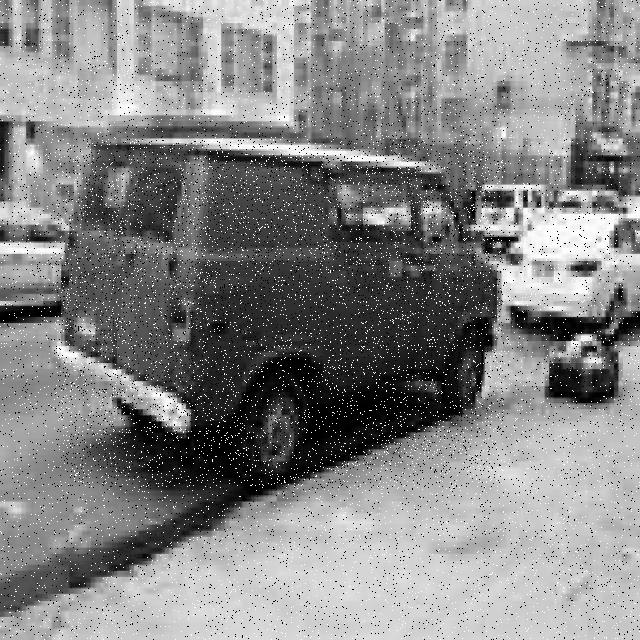Van: (55, 139, 504, 488)
